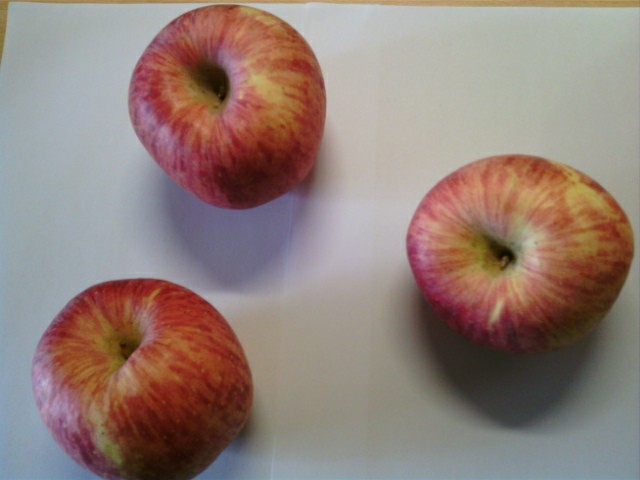normal_apple: (401, 154, 640, 358), (30, 278, 257, 478), (126, 3, 329, 215)
